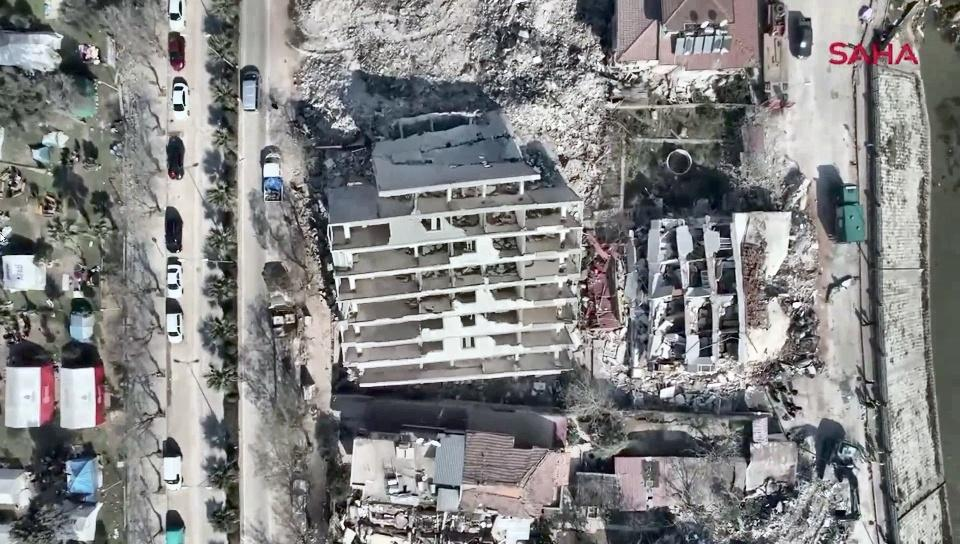kapali: (789, 410, 879, 543)
